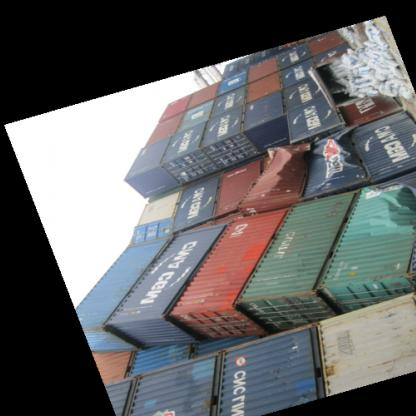Damage: (313, 48, 385, 110), (360, 175, 415, 251), (306, 130, 355, 194), (254, 144, 300, 204)
